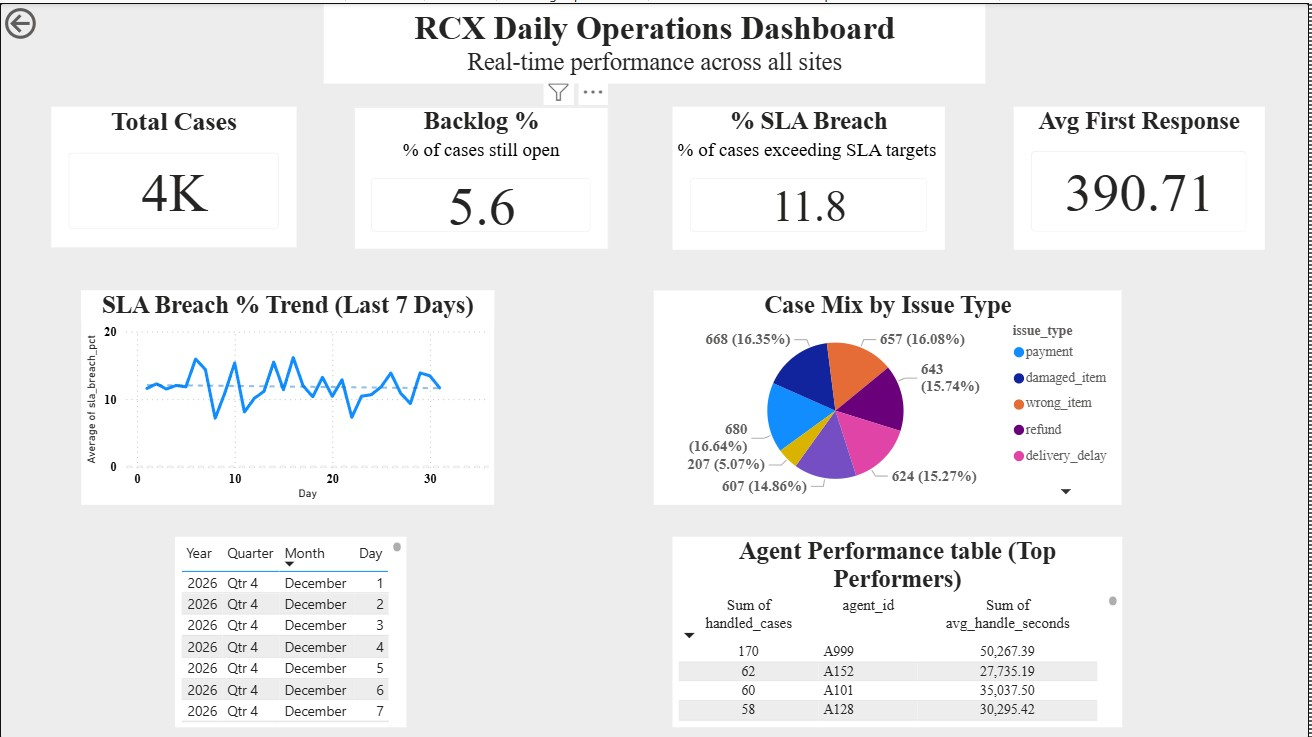

What the dashboard file says about the page in this screenshot:
{"tool":"powerbi","page":{"name":"Page 1","canvas":[1280,720],"ordinal":0},"visuals":[{"type":"cardVisual","title":"Total Cases","fields":{"Data":["Sum(kpi_daily_snapshot.total_cases)"]},"box":[50.7,101.3,240,137.3],"z":0},{"type":"cardVisual","title":"% SLA Breach ","fields":{"Data":["Avg(kpi_daily_snapshot.sla_breach_pct)"]},"box":[657.3,101.3,266.7,140],"z":1000},{"type":"cardVisual","title":"Backlog % ","fields":{"Data":["Avg(kpi_daily_snapshot.open_case_pct)"]},"box":[346.7,101.3,249.3,140],"z":2000},{"type":"textbox","box":[316.3,1.2,647.4,77.5],"z":3000},{"type":"lineChart","title":"SLA Breach % Trend (Last 7 Days)","fields":{"Category":["kpi_daily_snapshot.created_date.Variation.Date Hierarchy.Year","kpi_daily_snapshot.created_date.Variation.Date Hierarchy.Quarter","kpi_daily_snapshot.created_date.Variation.Date Hierarchy.Month","kpi_daily_snapshot.created_date.Variation.Date Hierarchy.Day"],"Y":["Avg(kpi_daily_snapshot.sla_breach_pct)"]},"box":[80,281.3,404,209.3],"z":4000},{"type":"tableEx","fields":{"Values":["kpi_daily_snapshot.created_date.Variation.Date Hierarchy.Year","kpi_daily_snapshot.created_date.Variation.Date Hierarchy.Quarter","kpi_daily_snapshot.created_date.Variation.Date Hierarchy.Month","kpi_daily_snapshot.created_date.Variation.Date Hierarchy.Day"]},"box":[170.7,522.7,226.7,186.7],"z":5000},{"type":"tableEx","title":"Agent Performance table (Top Performers)","fields":{"Values":["Sum(agent_productivity_daily.handled_cases)","agent_productivity_daily.agent_id","Sum(agent_productivity_daily.avg_handle_seconds)"]},"box":[657.3,522.7,440,186.7],"z":6000},{"type":"actionButton","box":[0,0,100,40],"z":7000},{"type":"pieChart","title":"Case Mix by Issue Type","fields":{"Category":["cases_raw.issue_type"],"Y":["CountNonNull(cases_raw.case_id)"]},"box":[640,281.8,457.8,209.2],"z":8000},{"type":"cardVisual","title":"Avg First Response ","fields":{"Data":["Avg(kpi_daily_snapshot.avg_first_response_seconds)"]},"box":[992,101.3,245.3,140],"z":8001}]}

Visuals, with their boxes in screenshot pixels (x1, y1, x2, y2), scaled from the page's 1280x720 canvas onto the 1312x737 screenshot:
"Total Cases" cardVisual: BBox(52, 104, 298, 244)
"% SLA Breach " cardVisual: BBox(674, 104, 947, 247)
"Backlog % " cardVisual: BBox(355, 104, 611, 247)
textbox: BBox(324, 1, 988, 81)
"SLA Breach % Trend (Last 7 Days)" lineChart: BBox(82, 288, 496, 502)
tableEx - kpi_daily_snapshot.created_date.Variation.Date Hierarchy.Year x kpi_daily_snapshot.created_date.Variation.Date Hierarchy.Quarter: BBox(175, 535, 407, 726)
"Agent Performance table (Top Performers)" tableEx: BBox(674, 535, 1125, 726)
actionButton: BBox(0, 0, 102, 41)
"Case Mix by Issue Type" pieChart: BBox(656, 288, 1125, 503)
"Avg First Response " cardVisual: BBox(1017, 104, 1268, 247)
